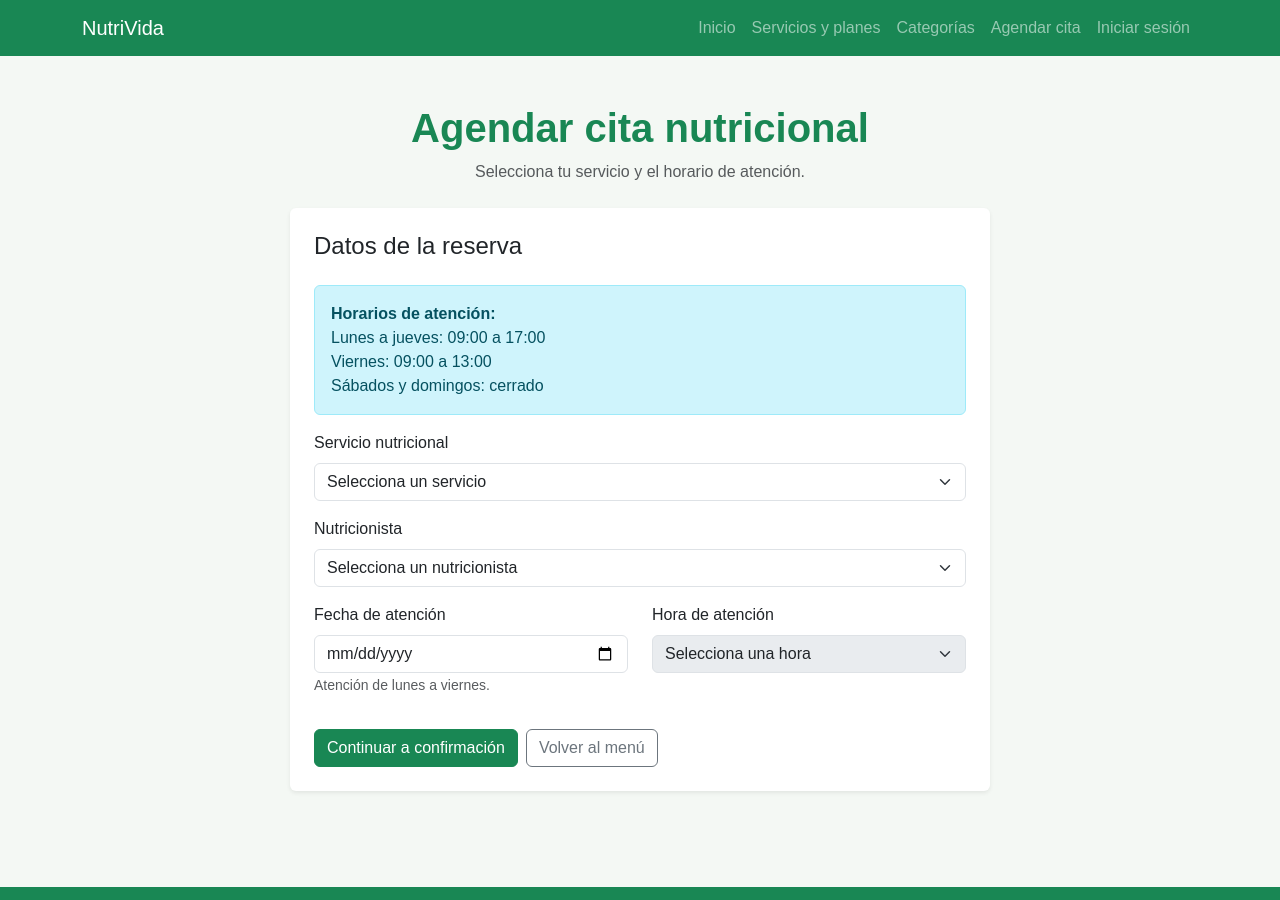
Test: Agendamiento de citas de NutriVida › impide agendar citas los fines de semana
Type "2026-10-24" into the date field at (471, 654), box top-left (314, 635), bottom-right (628, 673)
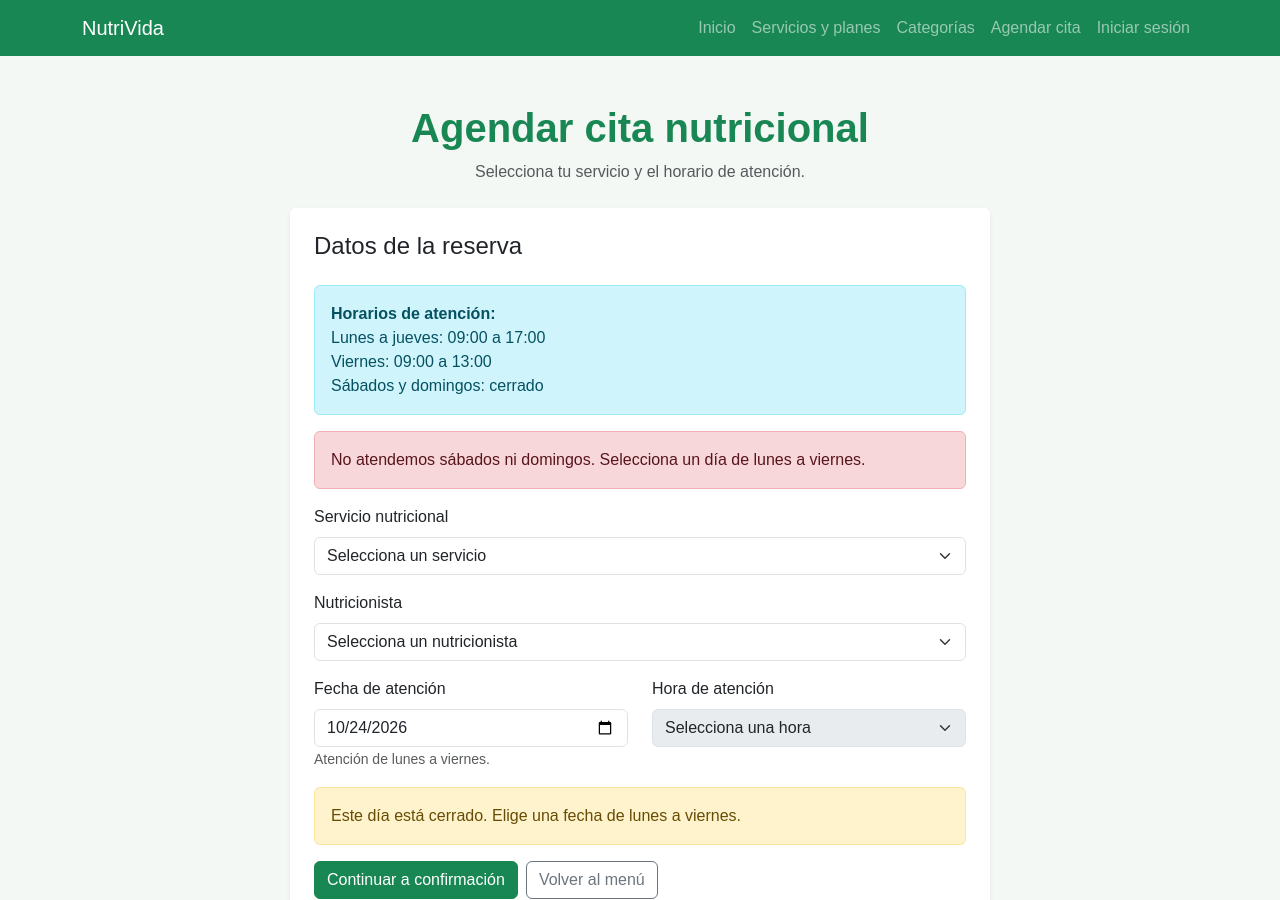
Expected: the dropdown below "Hora de atención" is disabled, top-left (652, 709), bottom-right (966, 747)
Expected: the text "Este día está cerrado. Elige una fecha de lunes a viernes." is shown, top-left (314, 787), bottom-right (966, 845)
